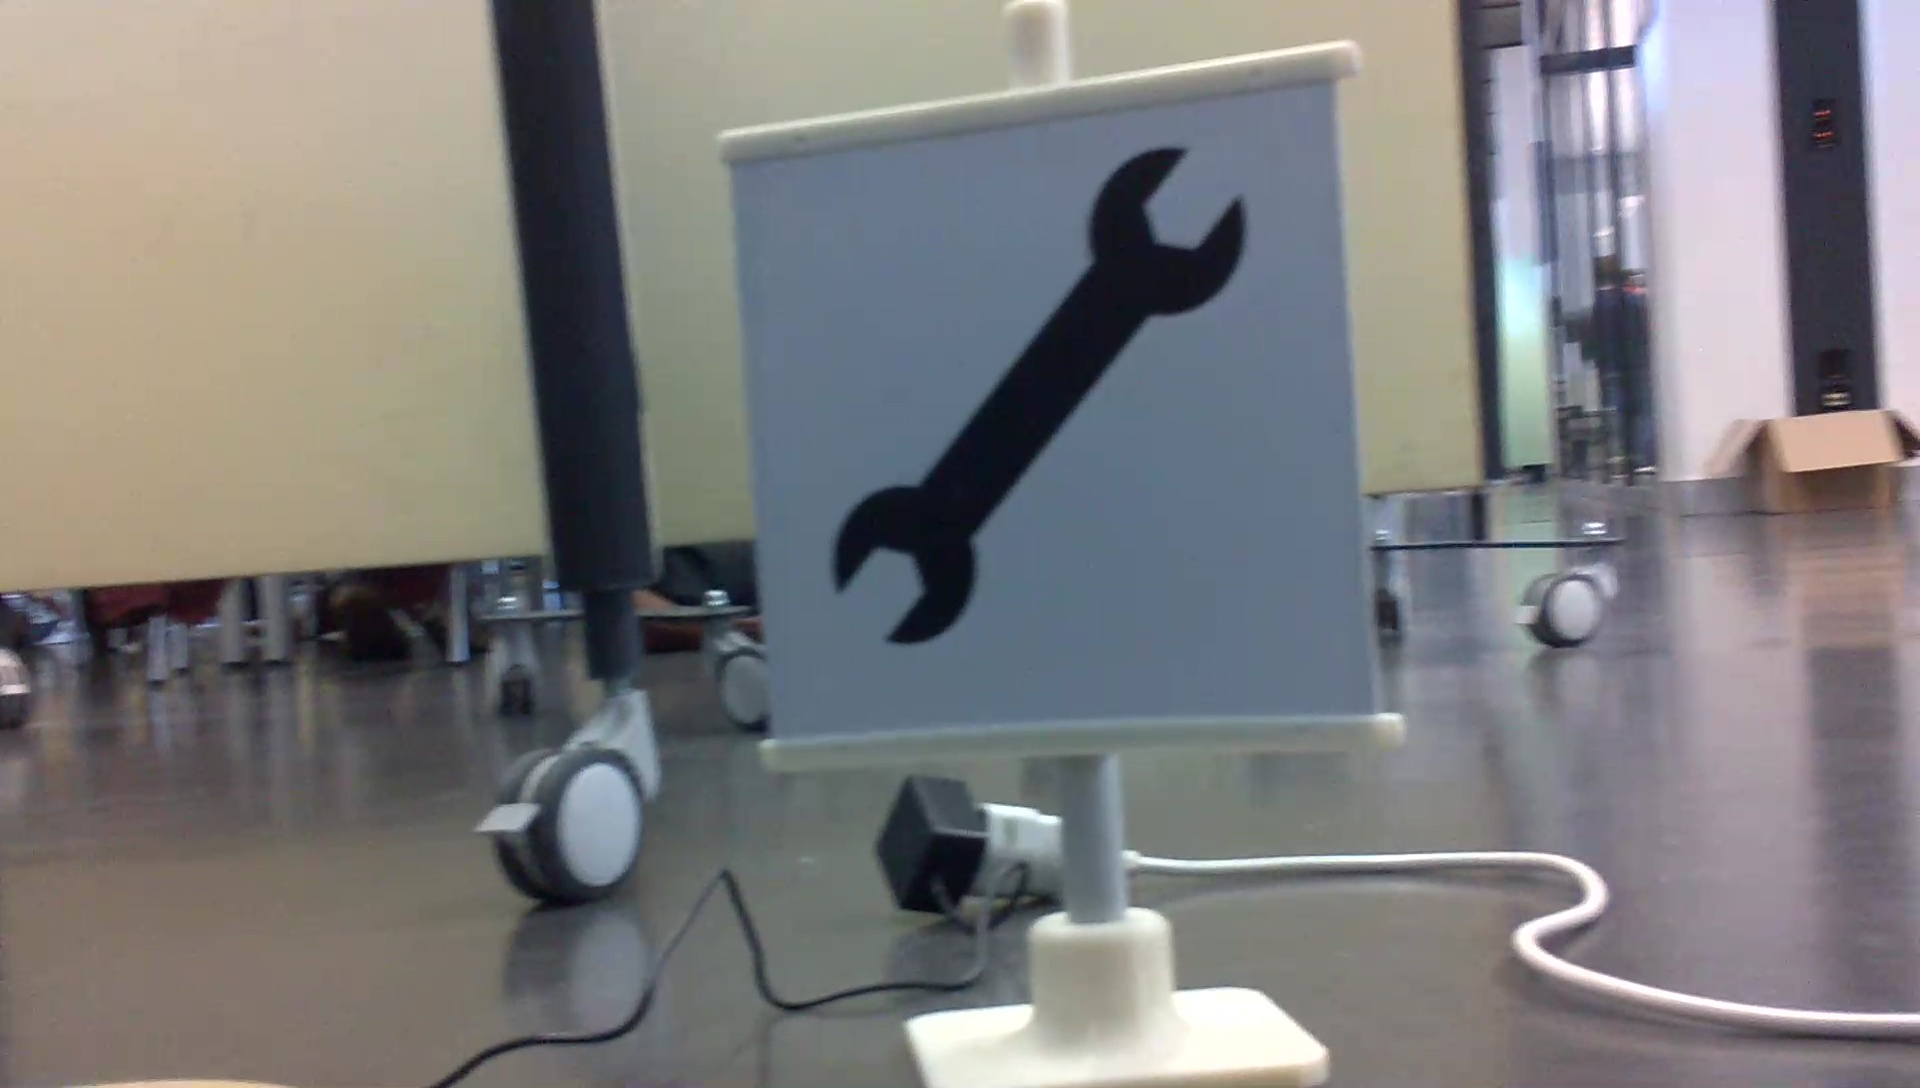wrench: (820, 135, 1251, 655)
